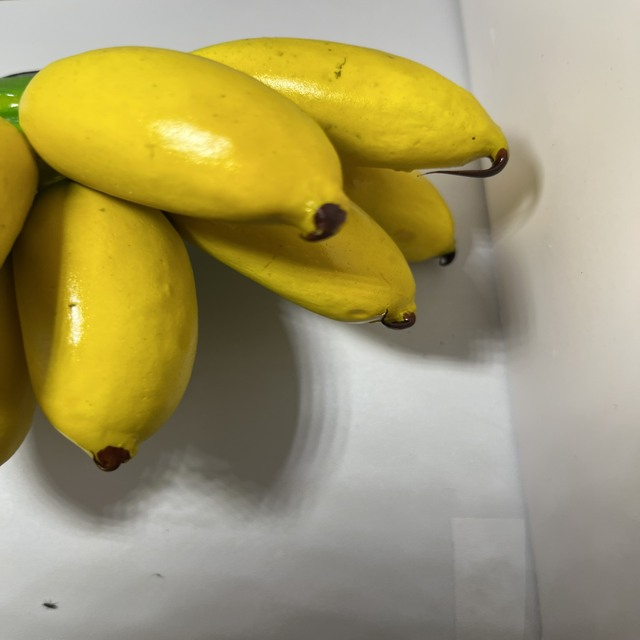Chuoi: (0, 37, 521, 478)
